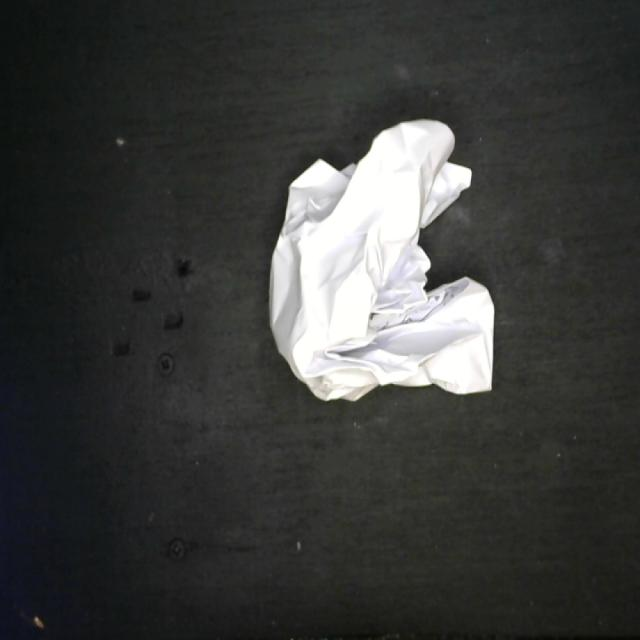biodegradable: (266, 116, 499, 405)
